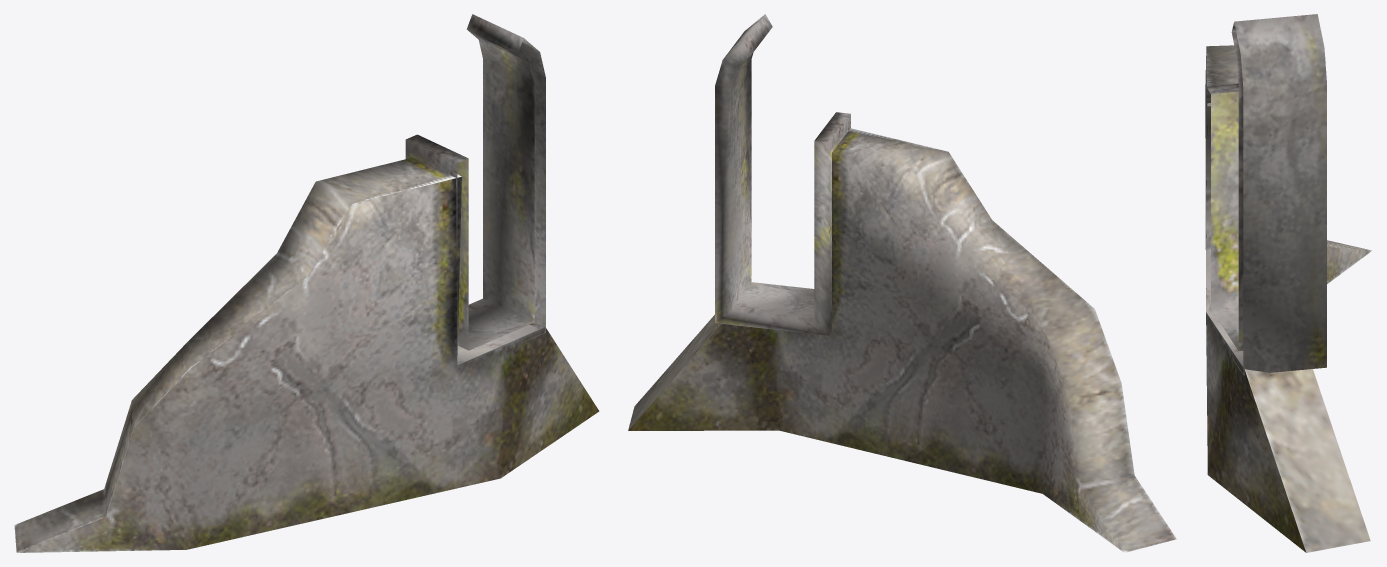
The model's file is Ruins building_a.FBX.
3 renders of one model, left to right at view 1: azimuth 30°, elevation 25°; view 2: azimuth 150°, elevation 25°; view 3: azimuth 270°, elevation 25°, orthographic. The views are drawn at different scales.
Parts seen in each view (by area): view 1: Ruins building_a; view 2: Ruins building_a; view 3: Ruins building_a.
Part boxes in pixels (<box>): Ruins building_a: <box>14,14,599,552</box>; Ruins building_a: <box>628,14,1176,552</box>; Ruins building_a: <box>1205,14,1372,552</box>.
Bounding box in the file's own units: 4.42 × 3.07 × 0.9851.
Materials: 1 (1 with a texture image).
